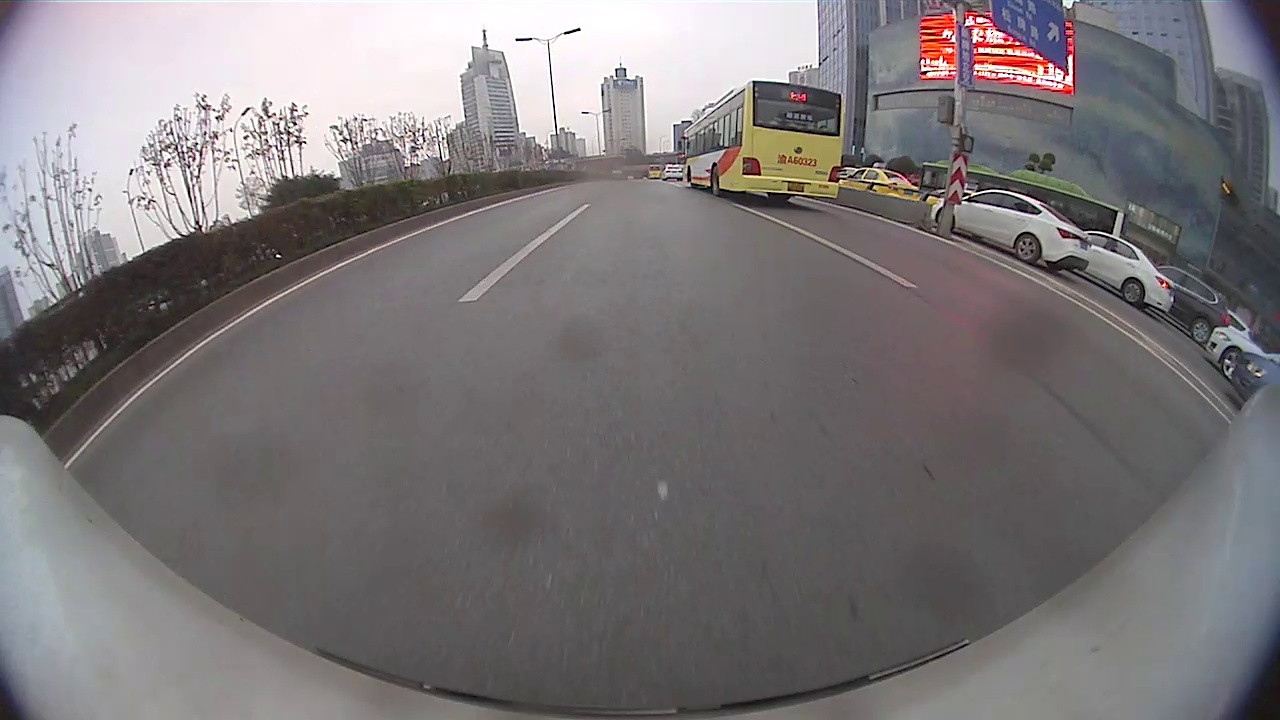bus: (677, 77, 848, 205)
car: (928, 186, 1093, 275), (1083, 228, 1179, 317), (1152, 263, 1233, 348), (1204, 324, 1279, 377), (838, 165, 924, 204), (1228, 348, 1279, 403)
front: (1220, 345, 1242, 384)
rear: (1012, 234, 1043, 264), (1190, 316, 1212, 347), (1122, 280, 1146, 308)
